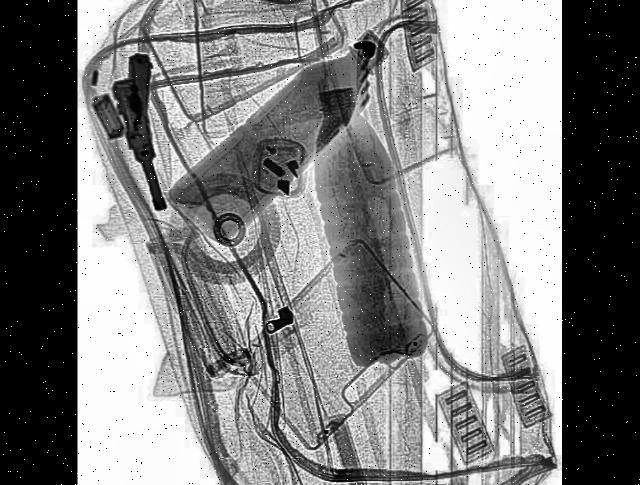Gun: (106, 46, 182, 222)
